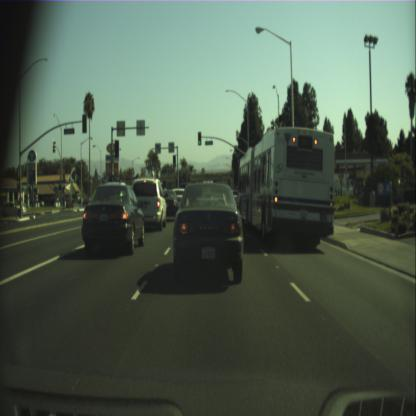Green: (197, 131, 201, 145), (172, 154, 176, 166), (206, 172, 208, 178)
Red: (219, 172, 221, 178), (213, 172, 214, 178)
